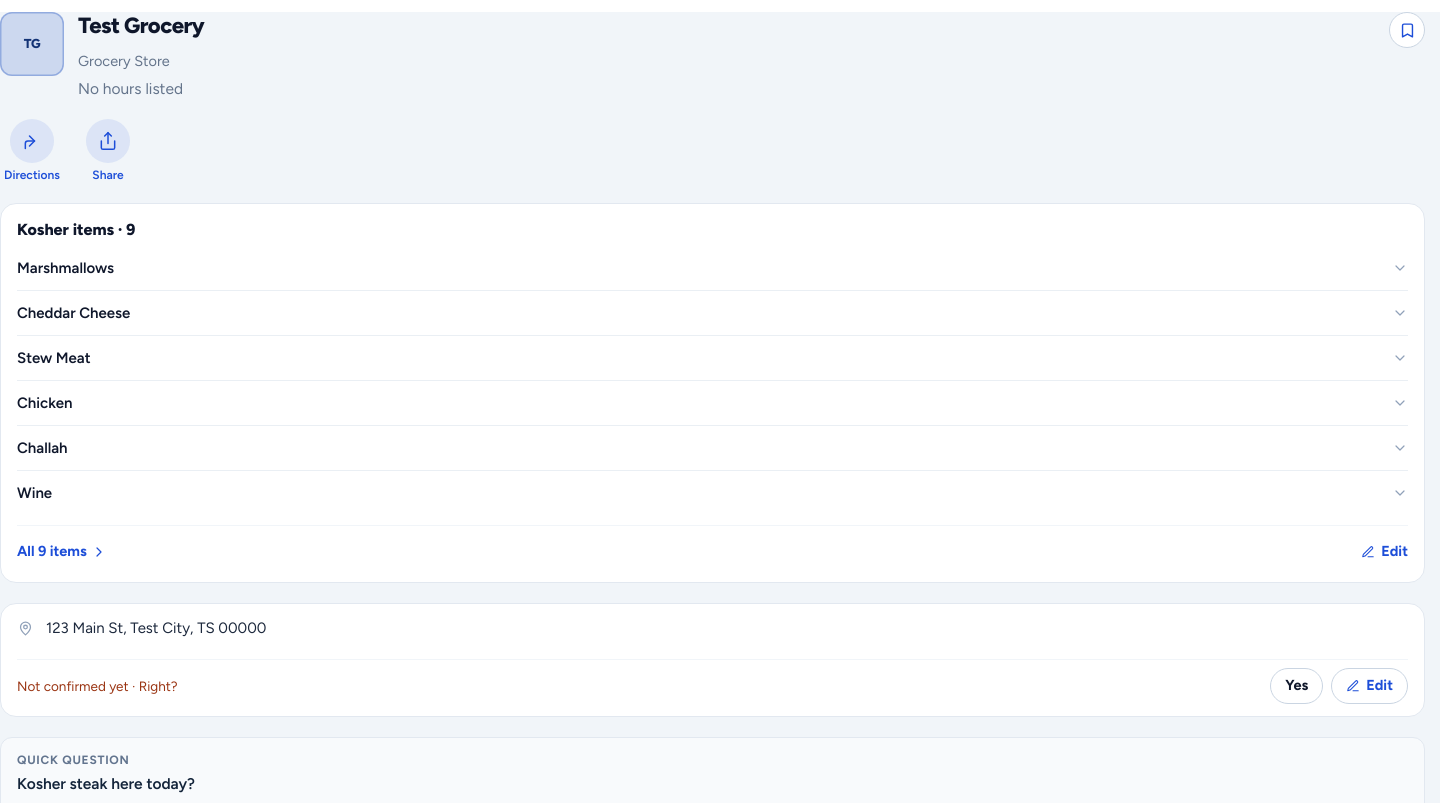
Test: ListingView — the main thing › a grocery leads with its items, the not-always ones marked, six then all
Expected: the element with test id "listing-items" shows "Kosher items · 9", [17, 220, 135, 239]
Expected: the number of list items is 6, [17, 246, 1408, 291]; [17, 291, 1408, 336]; [17, 336, 1408, 381]; [17, 381, 1408, 426]; [17, 426, 1408, 471]; [17, 471, 1408, 515]
Click the button "All 9 items".
click(62, 552)  # box [17, 534, 107, 570]
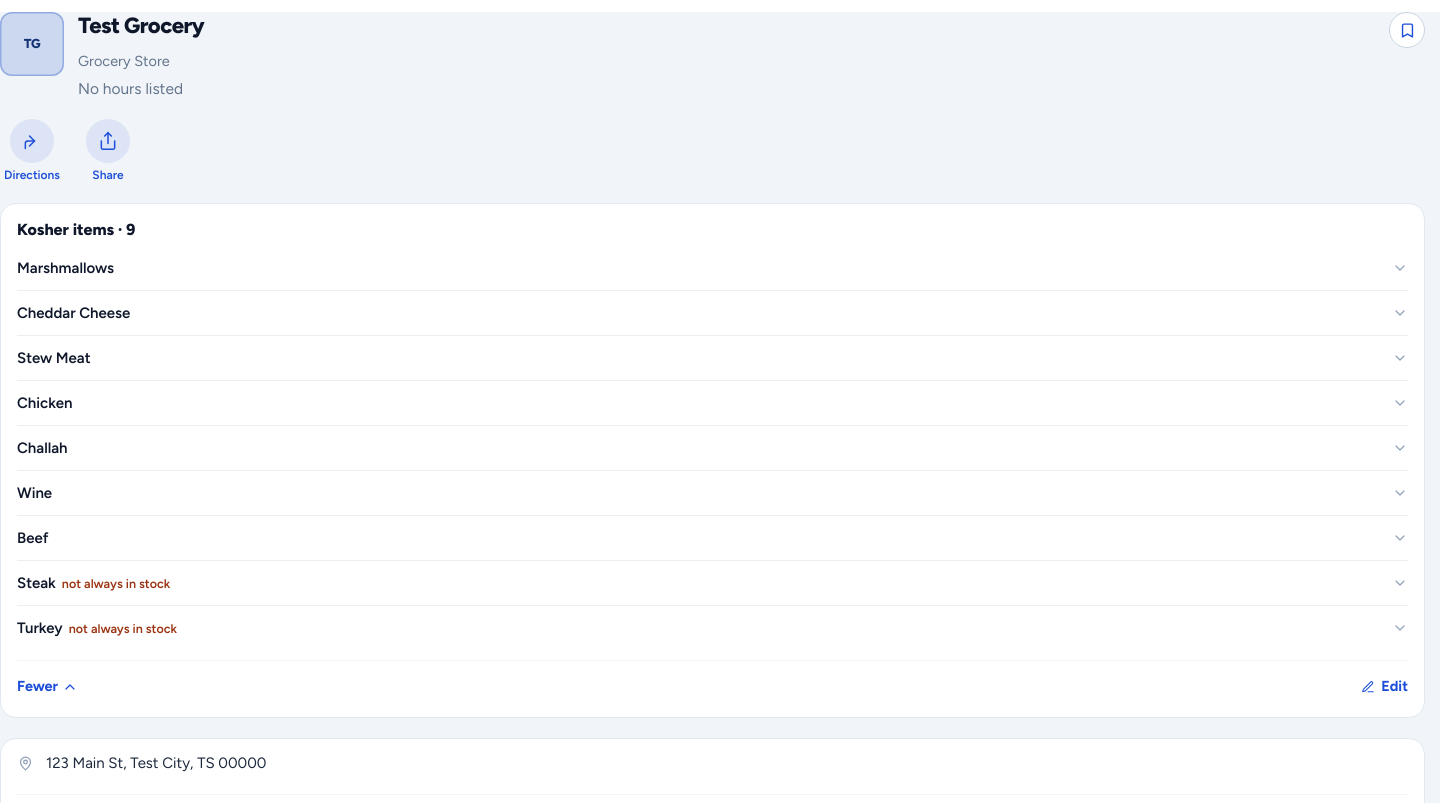
Expected: the number of list items is 9
Expected: the button "Steaknot always in stock" is shown, [17, 561, 1408, 605]
